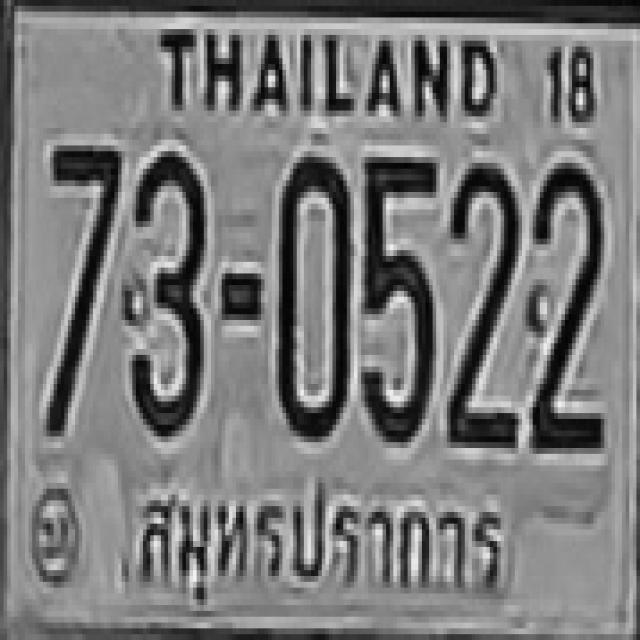0: (275, 152, 347, 436)
2: (526, 157, 600, 448), (445, 157, 517, 442)
3: (122, 146, 204, 437)
5: (360, 152, 434, 436)
7: (44, 140, 120, 430)
SamutPrakan: (132, 472, 508, 610)
